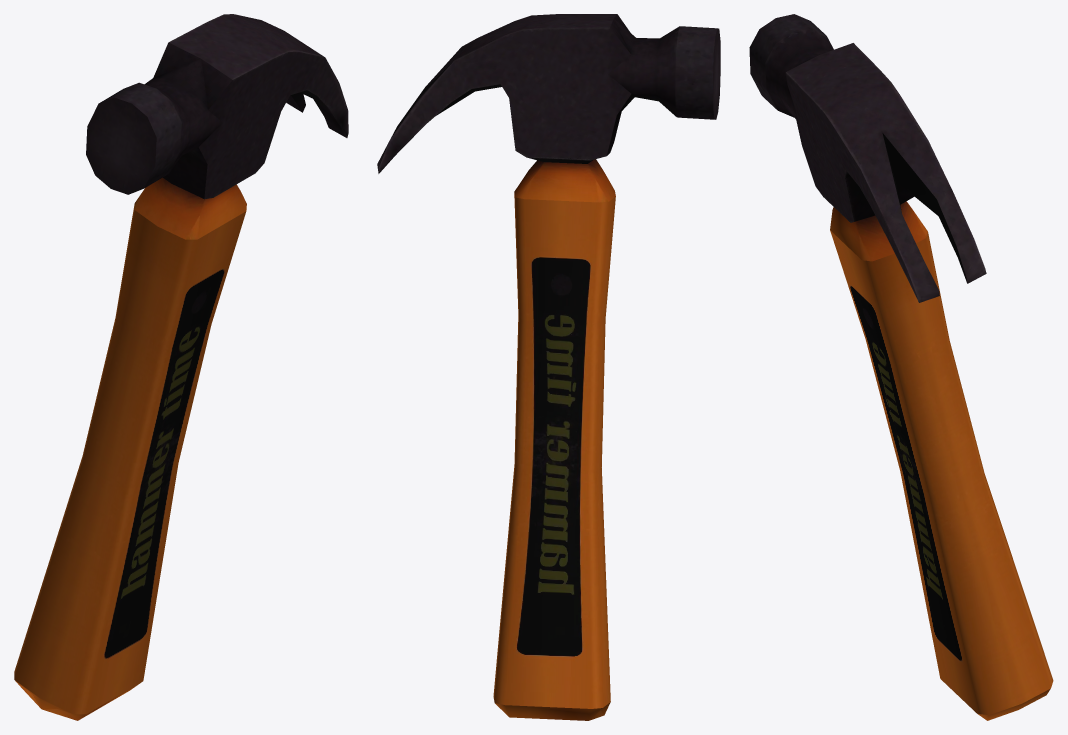
3 renders of one model, left to right at view 1: azimuth 30°, elevation 25°; view 2: azimuth 150°, elevation 25°; view 3: azimuth 270°, elevation 25°, orthographic. The views are drawn at different scales.
Visible parts, largest first — view 1: nail-puller_nailpuller_0; view 2: nail-puller_nailpuller_0; view 3: nail-puller_nailpuller_0.
Boxes of the visible parts, x1,y1,x2,y2 form: nail-puller_nailpuller_0: [14, 14, 348, 720]; nail-puller_nailpuller_0: [377, 14, 720, 720]; nail-puller_nailpuller_0: [749, 14, 1053, 720].
Size of the model in its own units: 0.4203 by 0.9085 by 0.3775.
Materials: 1 (1 with a texture image).
